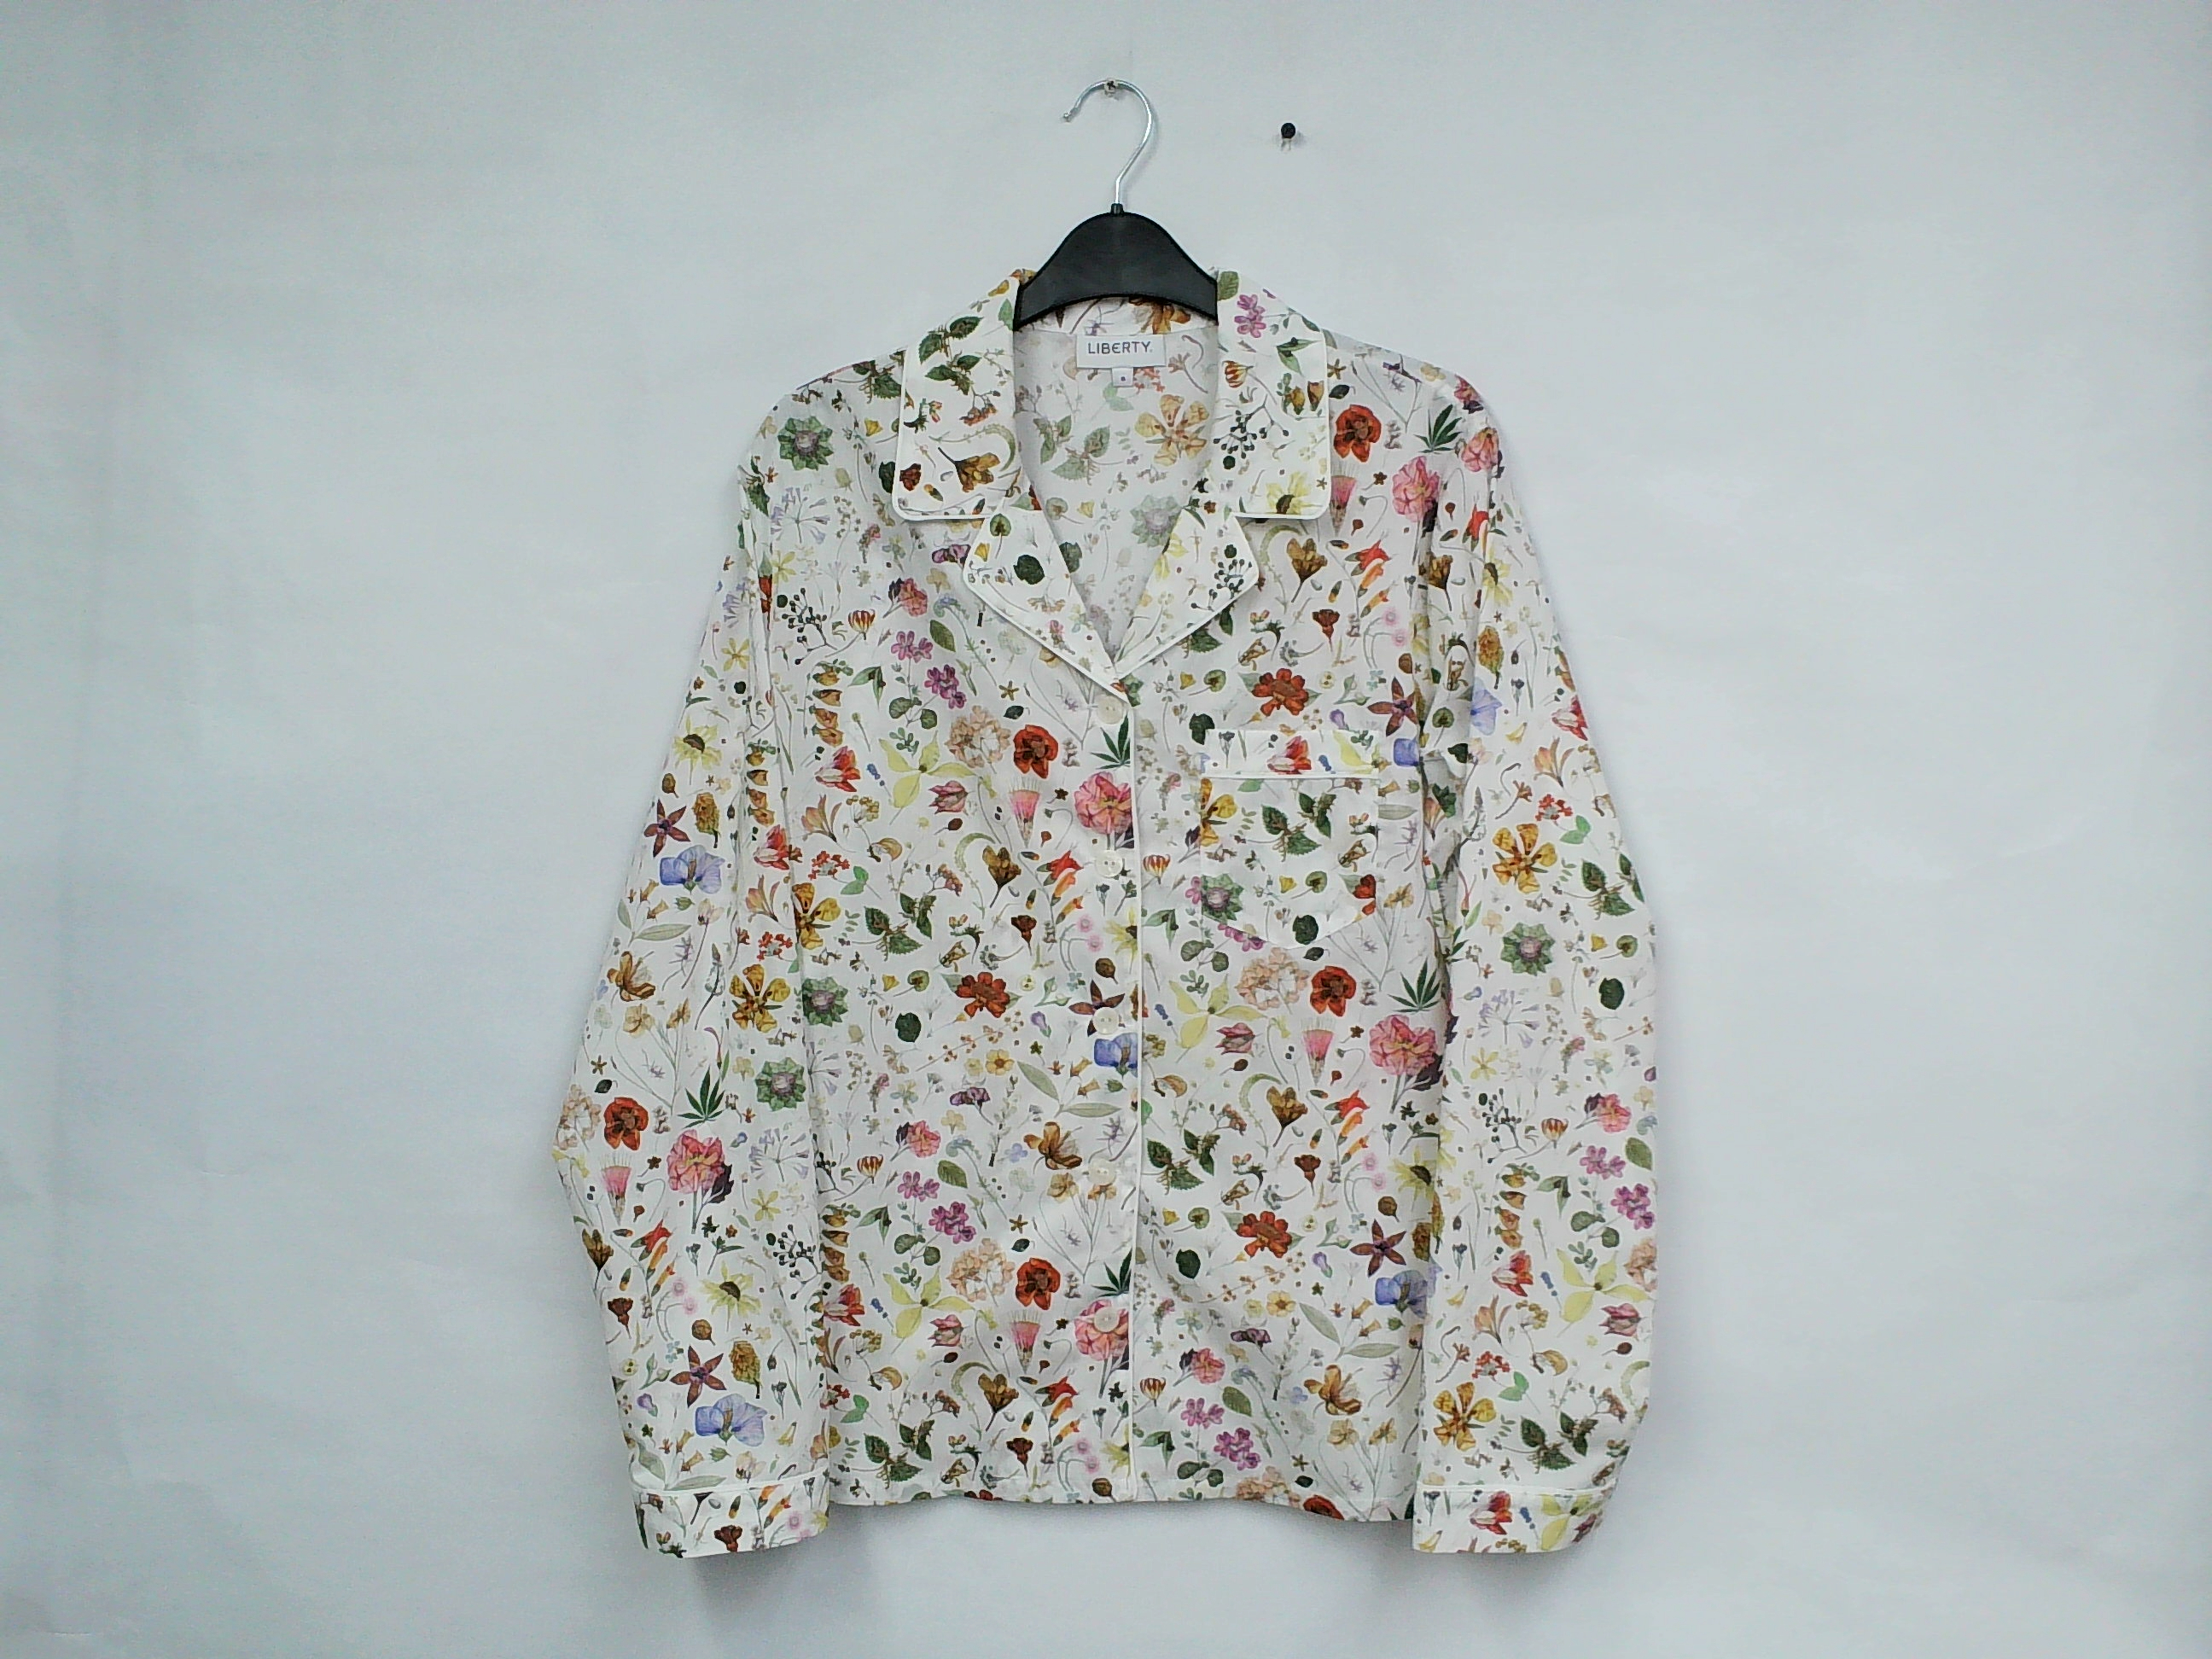seam: (939, 545, 1069, 653), (1207, 538, 1284, 617)
